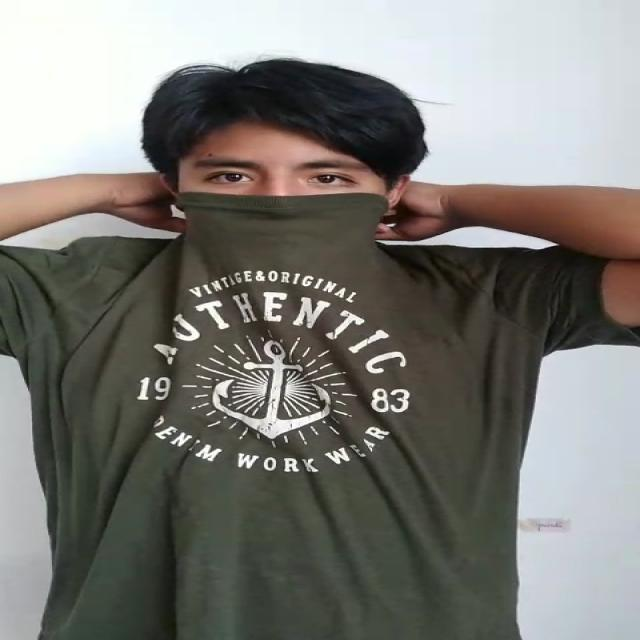8_ropa_rostro: (42, 184, 498, 304)
